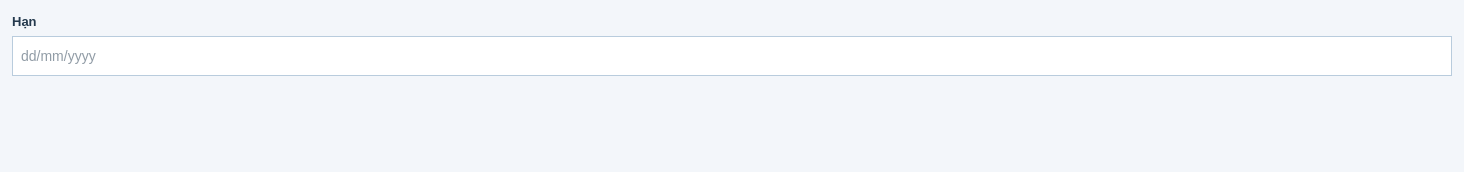
Test: DateInput › rời ô thì đưa ngày về dd/mm/yyyy; ngày sai lịch giữ nguyên để báo lỗi
The image size is (1464, 172).
Later steps or results of the test are not shown.
In the field labelled "Hạn": (732,56) [12,36,1452,76], type "5-3-2026"
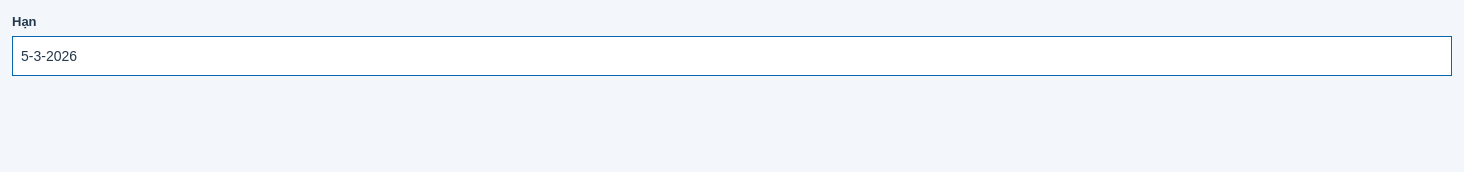
Press Tab
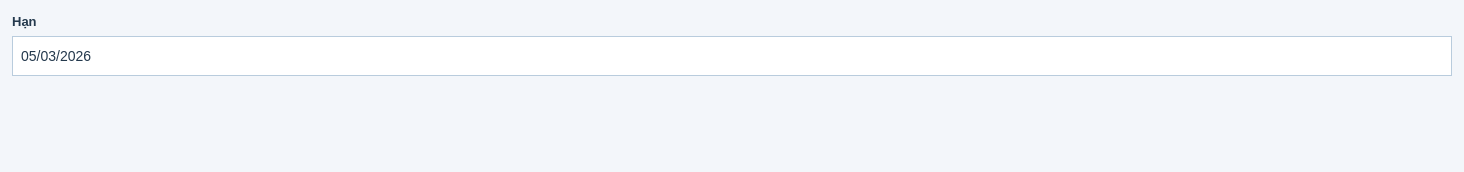
Result: the field labelled "Hạn" holds "05/03/2026" at [12,36,1452,76]
